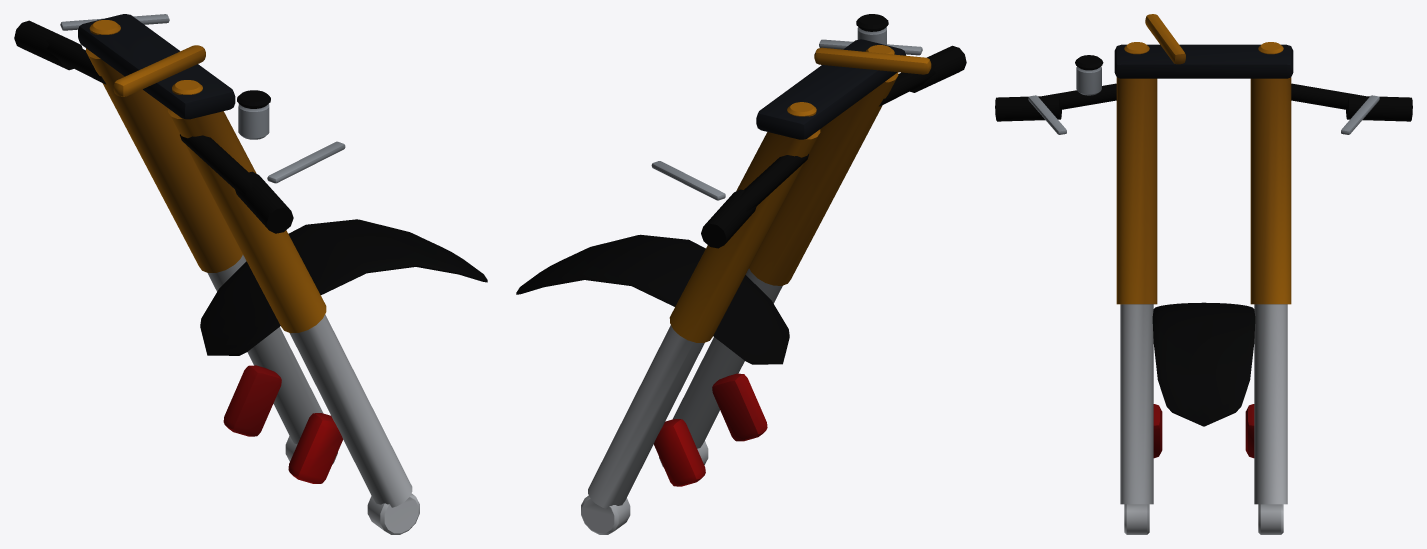
File: bike_super_front.glb
The picture shows the model from 3 angles, left to right: view 1: azimuth 30°, elevation 25°; view 2: azimuth 150°, elevation 25°; view 3: azimuth 270°, elevation 25°; orthographic projection. The views are drawn at different scales.
Visible parts, largest first — view 1: bk_fender, bk_forkU-1, bk_forkU1, bk_forkL1, bk_clamp, bk_forkL-1, bk_caliper-1, bk_caliper1, bk_damper, bk_grip1, bk_clipon1, bk_axleclamp1 (+5 smaller); view 2: bk_fender, bk_forkU1, bk_forkU-1, bk_forkL-1, bk_clamp, bk_forkL1, bk_caliper1, bk_caliper-1, bk_damper, bk_grip-1, bk_clipon-1, bk_axleclamp-1 (+3 smaller); view 3: bk_fender, bk_forkU1, bk_forkU-1, bk_forkL1, bk_forkL-1, bk_clamp, bk_grip1, bk_grip-1, bk_clipon-1, bk_clipon1, bk_damper, bk_axleclamp1 (+6 smaller).
Boxes of the visible parts, x1,y1,x2,y2 form: bk_fender: (200,219,487,355); bk_forkU-1: (86,48,242,272); bk_forkU1: (168,108,326,333); bk_forkL1: (289,314,412,507); bk_clamp: (78,14,235,119); bk_forkL-1: (207,255,323,444); bk_caliper-1: (223,365,281,436); bk_caliper1: (288,413,343,483); bk_damper: (113,45,205,96); bk_grip1: (235,171,293,233); bk_clipon1: (180,134,256,194); bk_axleclamp1: (367,493,419,534); bk_fender: (516,234,789,364); bk_forkU1: (749,72,898,285); bk_forkU-1: (669,129,820,342); bk_forkL-1: (588,325,704,508); bk_clamp: (756,39,905,139); bk_forkL1: (672,268,782,448); bk_caliper1: (712,373,767,441); bk_caliper-1: (654,419,705,486); bk_damper: (814,47,931,74); bk_grip-1: (701,189,756,248); bk_clipon-1: (736,154,808,211); bk_axleclamp-1: (581,495,630,534); bk_fender: (1152,302,1255,426); bk_forkU1: (1116,77,1157,304); bk_forkU-1: (1250,77,1291,304); bk_forkL1: (1120,304,1153,504); bk_forkL-1: (1254,304,1287,504); bk_clamp: (1114,44,1293,78); bk_grip1: (995,96,1061,121); bk_grip-1: (1346,96,1412,121); bk_clipon-1: (1291,83,1367,109); bk_clipon1: (1040,83,1116,109); bk_damper: (1145,14,1185,64); bk_axleclamp1: (1124,504,1149,534).
Bounding box in the file's own units: 0.5909 × 0.716 × 0.6548.
